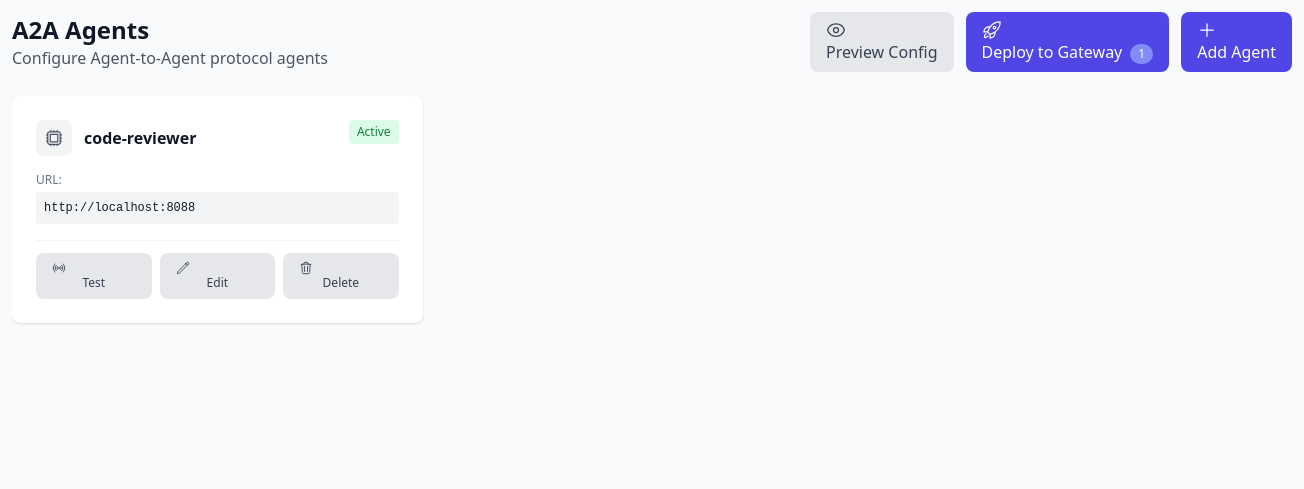
Agents › cancels delete confirmation dialog
Step 1. Click the button "Delete" → coordinates (341, 276), box [283,253,399,299]
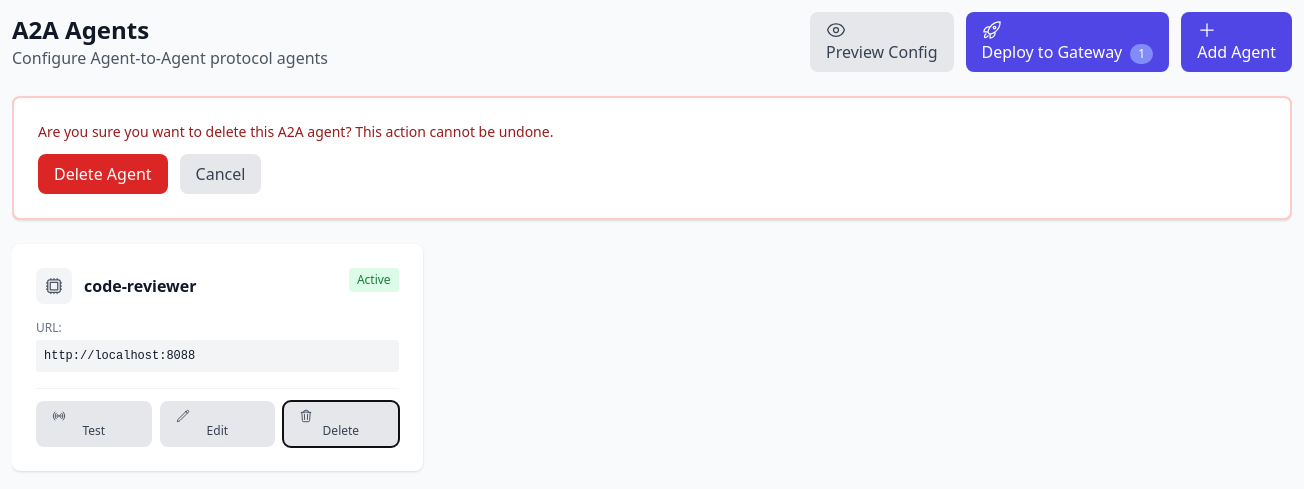
Now the text "Are you sure you want to delete this A2A agent? This action cannot be undone." is shown, box [38,122,553,141]
Step 2. Click the button "Cancel" → coordinates (220, 174), box [180,154,261,194]
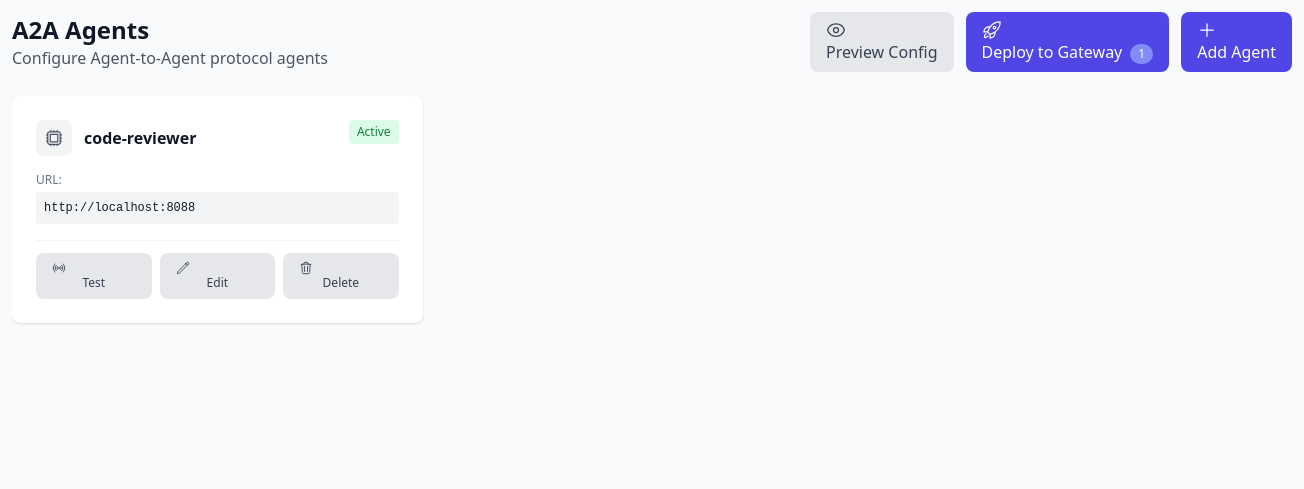
Now the text "Are you sure you want to delete this A2A agent? This action cannot be undone." is gone
